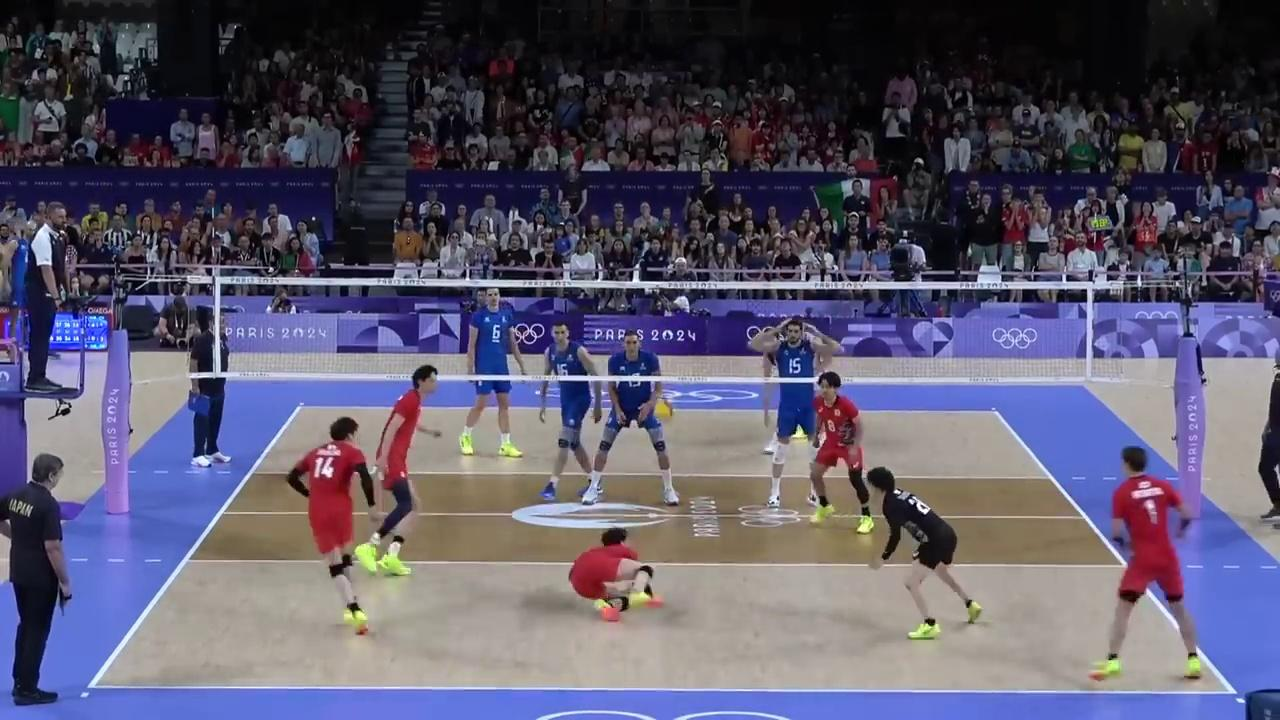ball: (656, 398, 673, 423)
